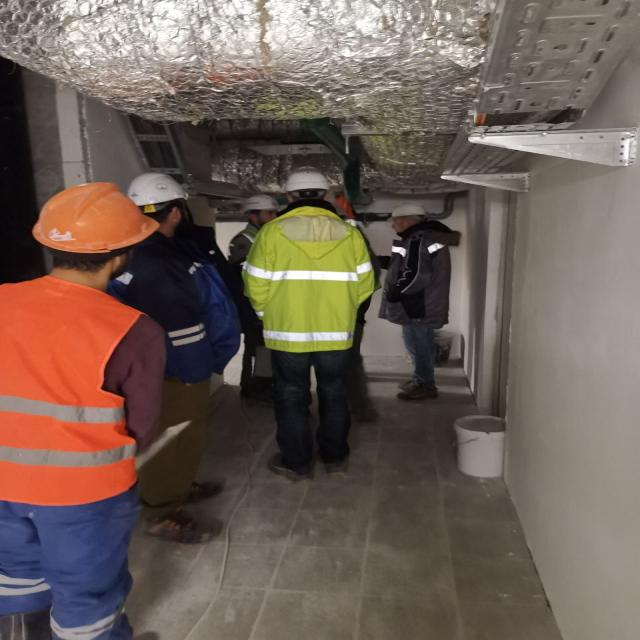Helmet: (37, 186, 161, 252), (131, 174, 188, 205), (289, 169, 330, 197), (243, 197, 281, 215), (390, 204, 429, 219)
Jacket: (2, 286, 136, 491), (262, 217, 364, 353)
NoJacket: (145, 243, 228, 369), (390, 228, 449, 317)
